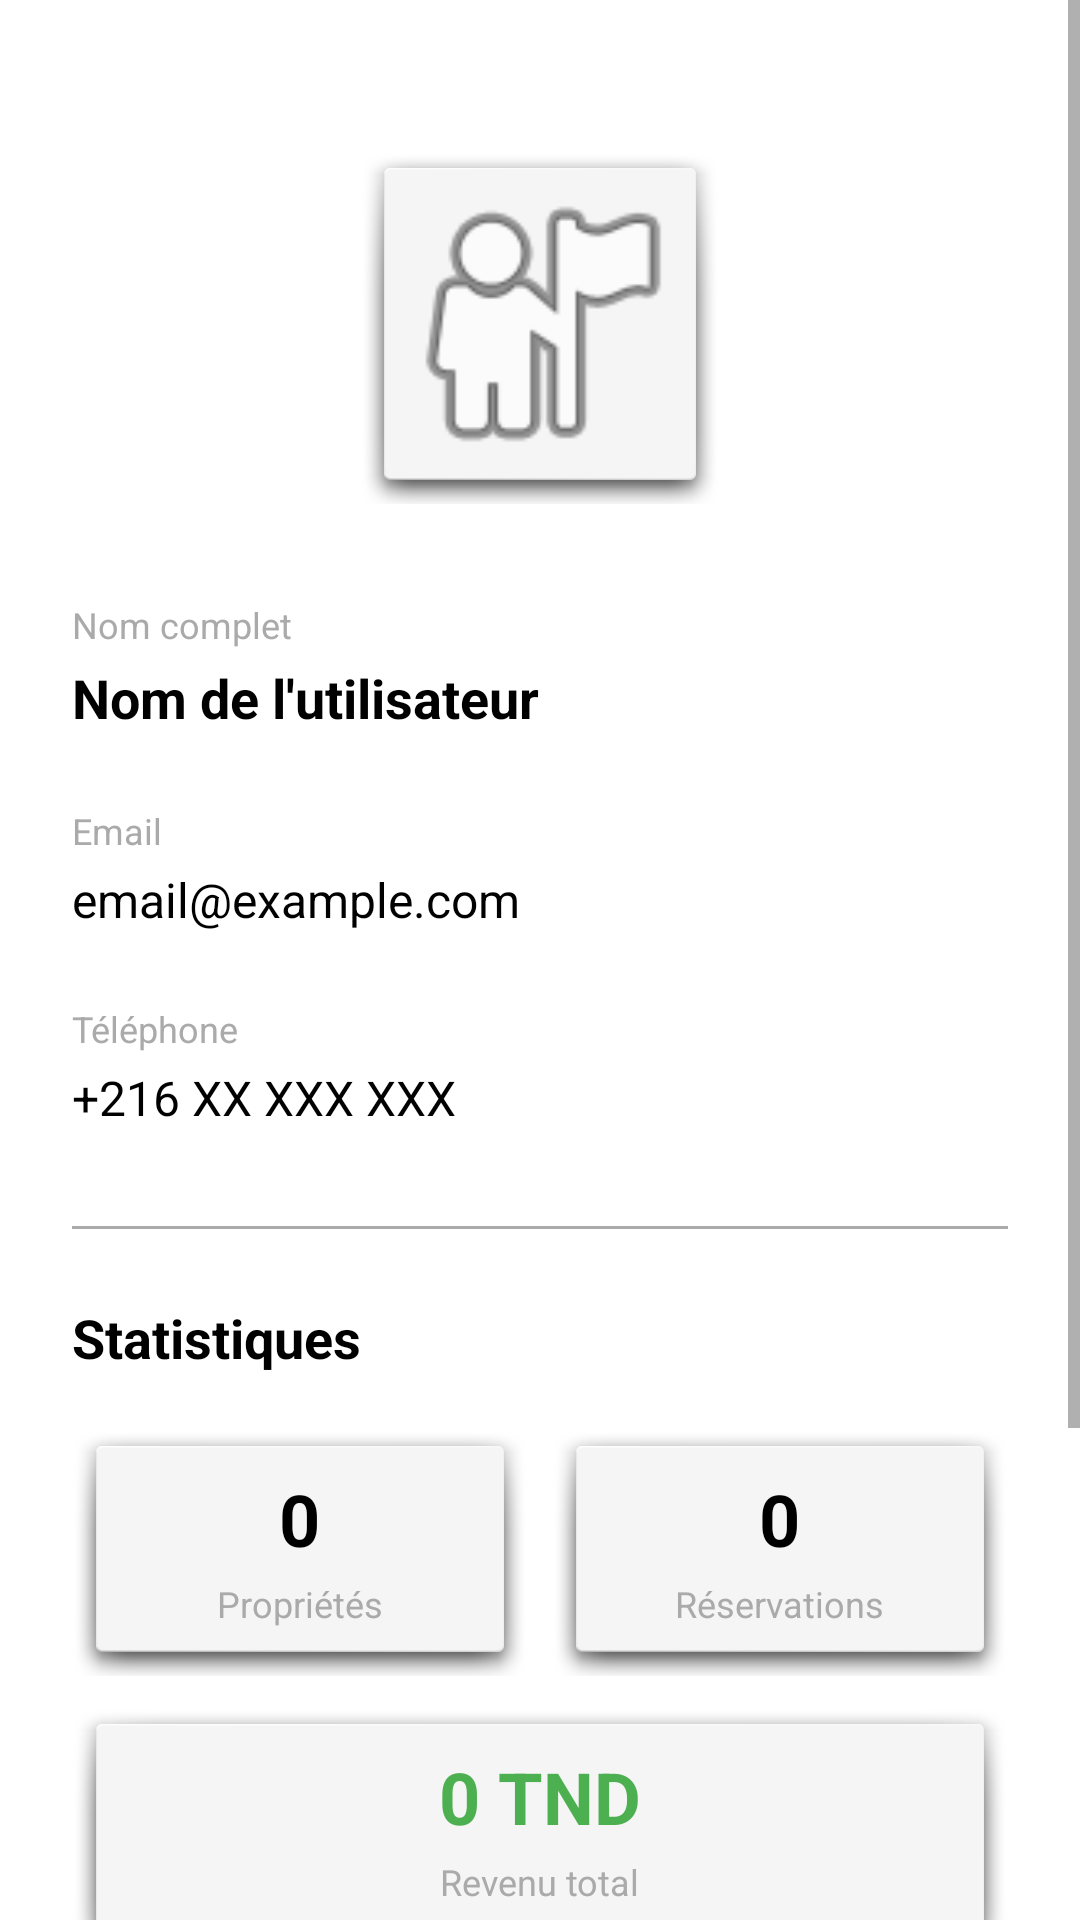

Screen size 1080×1920. Icon name, then its center in pixels as (x=x, y=y):
myplaces: (x=540, y=331)
